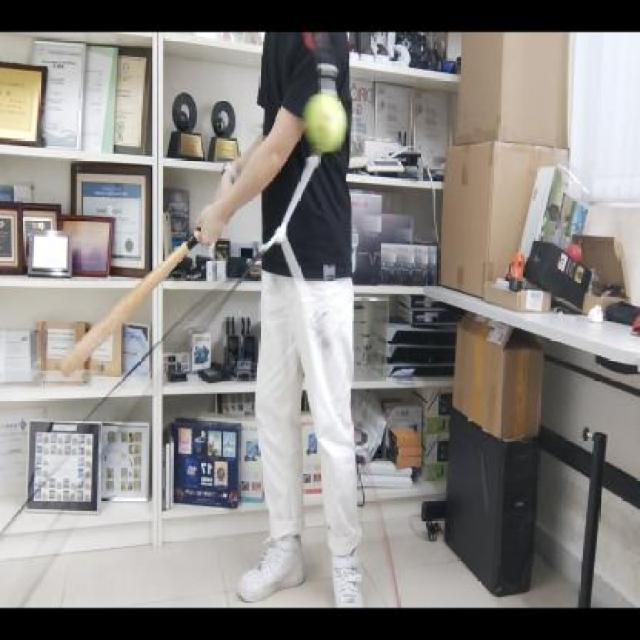baseball: (304, 86, 350, 156)
